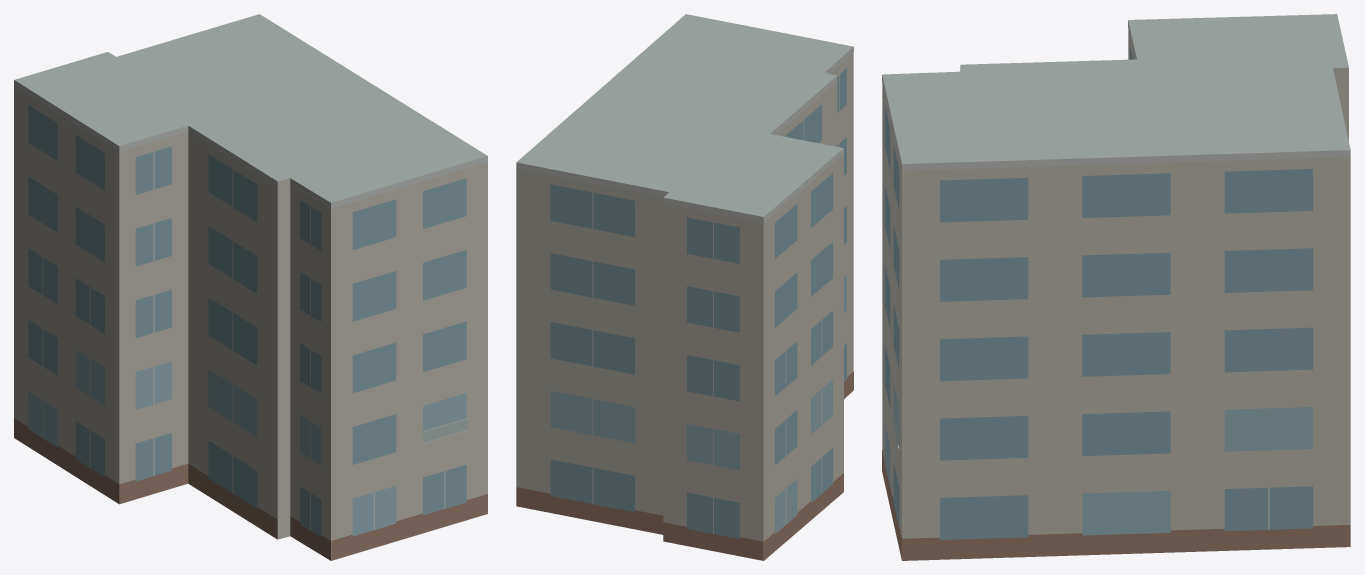
Rendered from survey-upis-32635312.glb.
3 views of the same model, side by side, from view 1: azimuth 30°, elevation 25°; view 2: azimuth 150°, elevation 25°; view 3: azimuth 270°, elevation 25° (orthographic). The views are drawn at different scales.
Visible parts, largest first — view 1: survey-upis-32635312.tmp; view 2: survey-upis-32635312.tmp; view 3: survey-upis-32635312.tmp.
Boxes of the visible parts, bbox=[...] form: survey-upis-32635312.tmp: bbox=[14, 14, 487, 560]; survey-upis-32635312.tmp: bbox=[516, 14, 853, 560]; survey-upis-32635312.tmp: bbox=[882, 14, 1350, 560].
Size of the model in its own units: 11.61 by 14.3 by 15.31.
